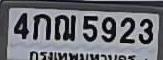2: (119, 15, 134, 42)
3: (138, 18, 152, 43)
4: (13, 12, 28, 38)
5: (82, 15, 97, 41)
9: (101, 16, 115, 41)
A01: (32, 13, 50, 39)
A12: (54, 14, 75, 40)
